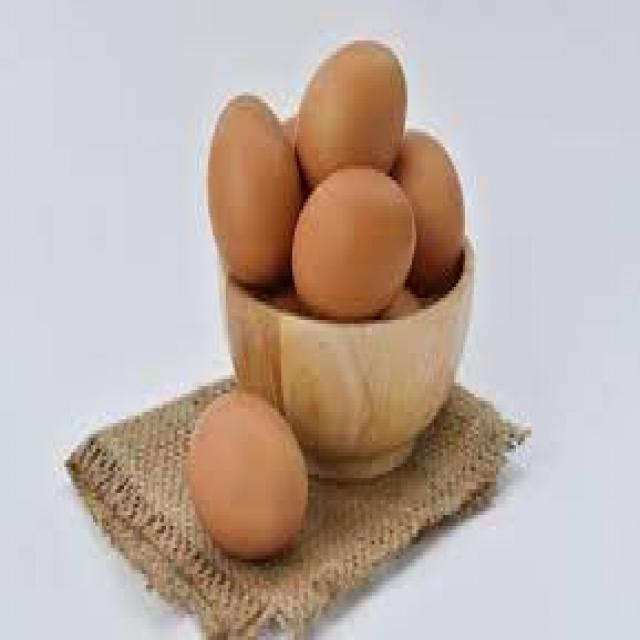Egg: (188, 390, 308, 563), (292, 169, 419, 320), (208, 96, 303, 287)
